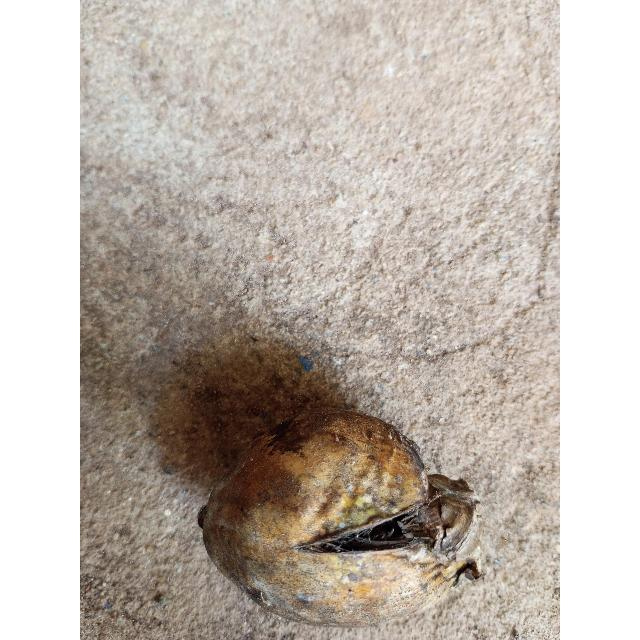damaged: (197, 408, 481, 617)
